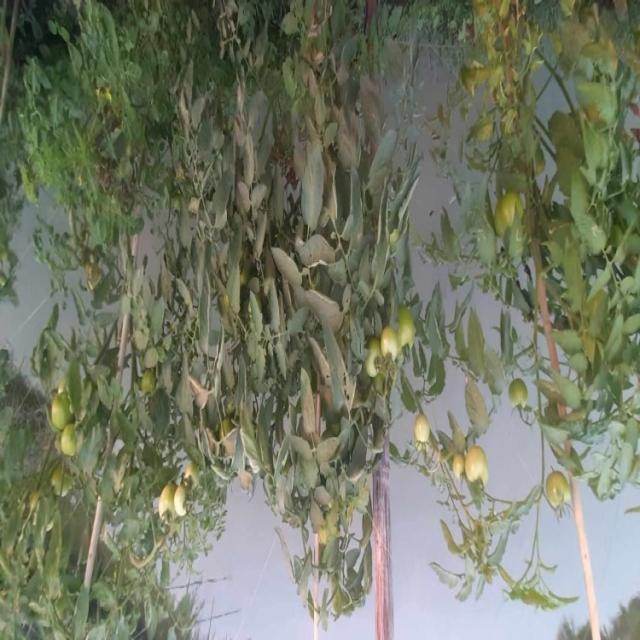tomato: (488, 177, 541, 234), (448, 439, 493, 489), (50, 421, 90, 470), (39, 380, 67, 432), (409, 411, 441, 455), (539, 473, 572, 504), (512, 365, 531, 418), (372, 331, 402, 361), (385, 319, 417, 347), (160, 486, 180, 515), (170, 485, 191, 512)
